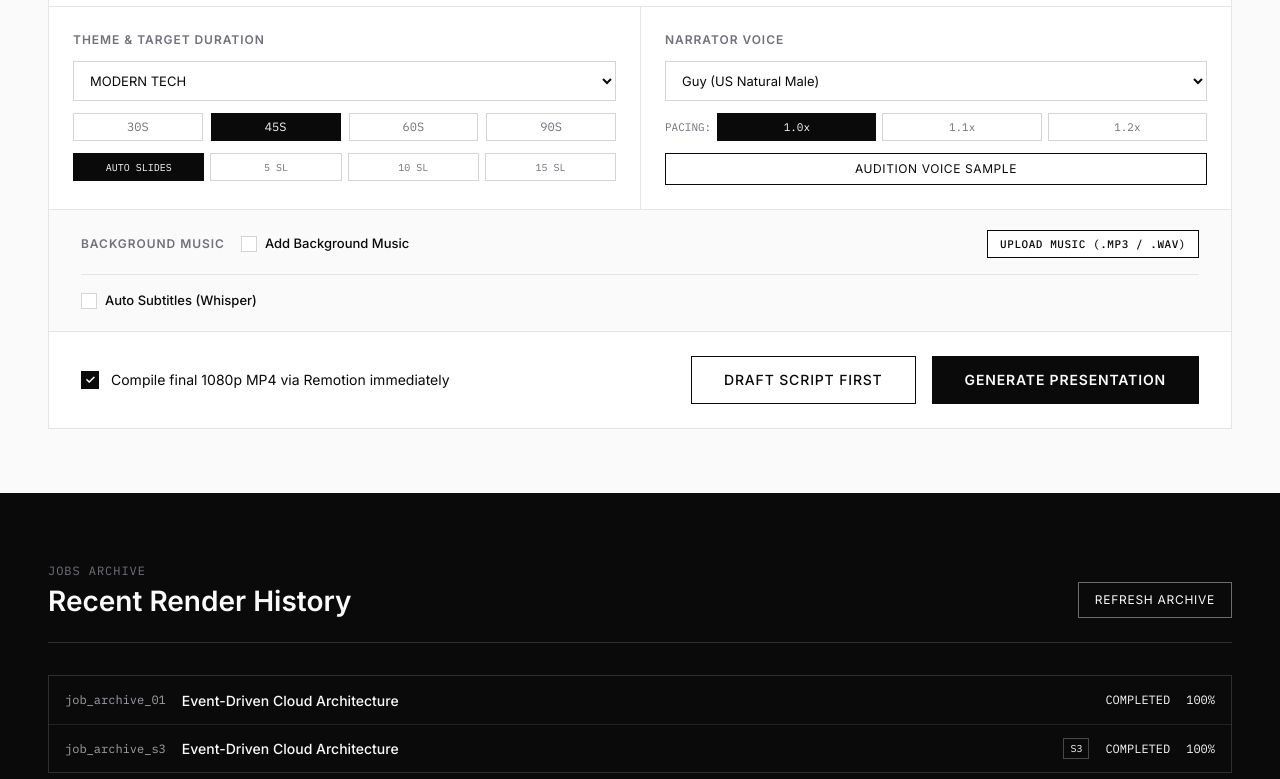
Test: Interactive Web Studio User Flows (jsdom + Testing Library) › shows validation alert on empty prompt, applies quick template, and auditions voice audio
(page scrolled)
Click the button "Generate Presentation".
click(1065, 380)  # box [932,356,1199,404]
(page scrolled)
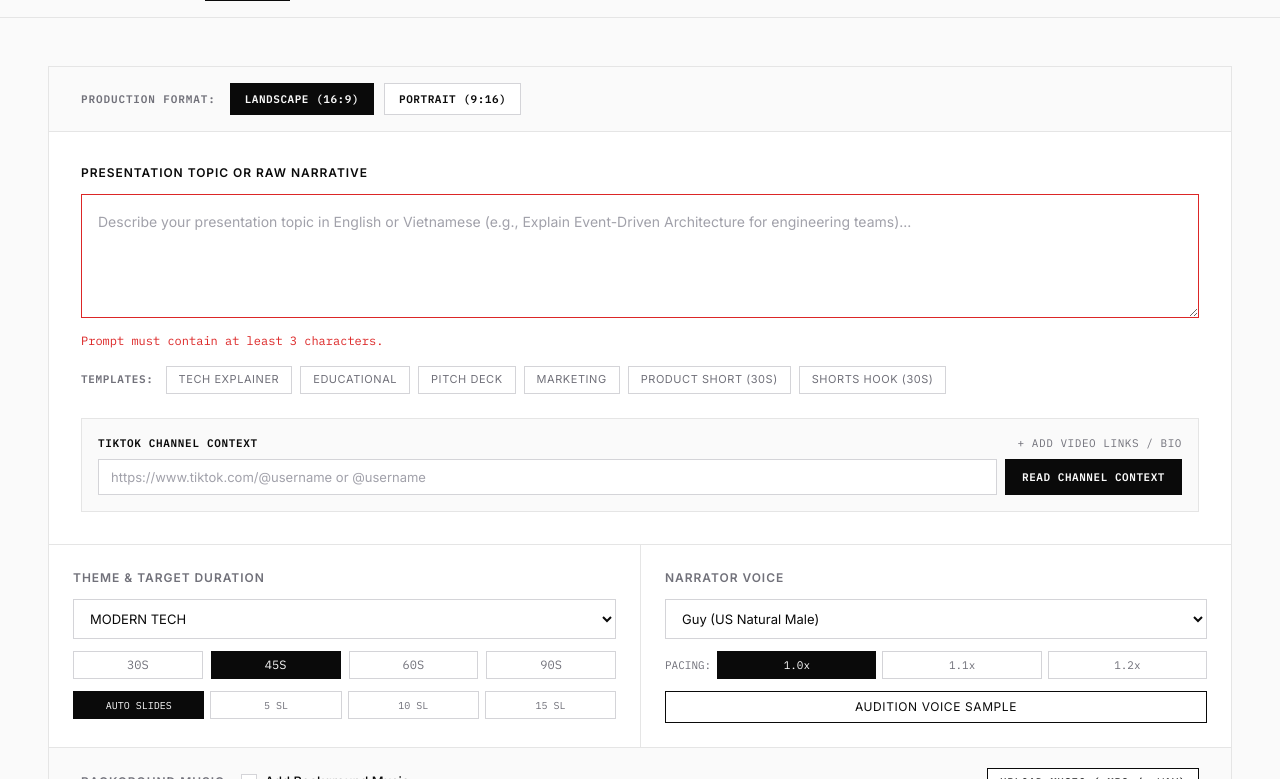
Check: the message reads "Prompt must contain at least 3 characters.", box [81,333,383,348]
Click the button "TECH EXPLAINER".
click(229, 380)  # box [166,366,292,394]
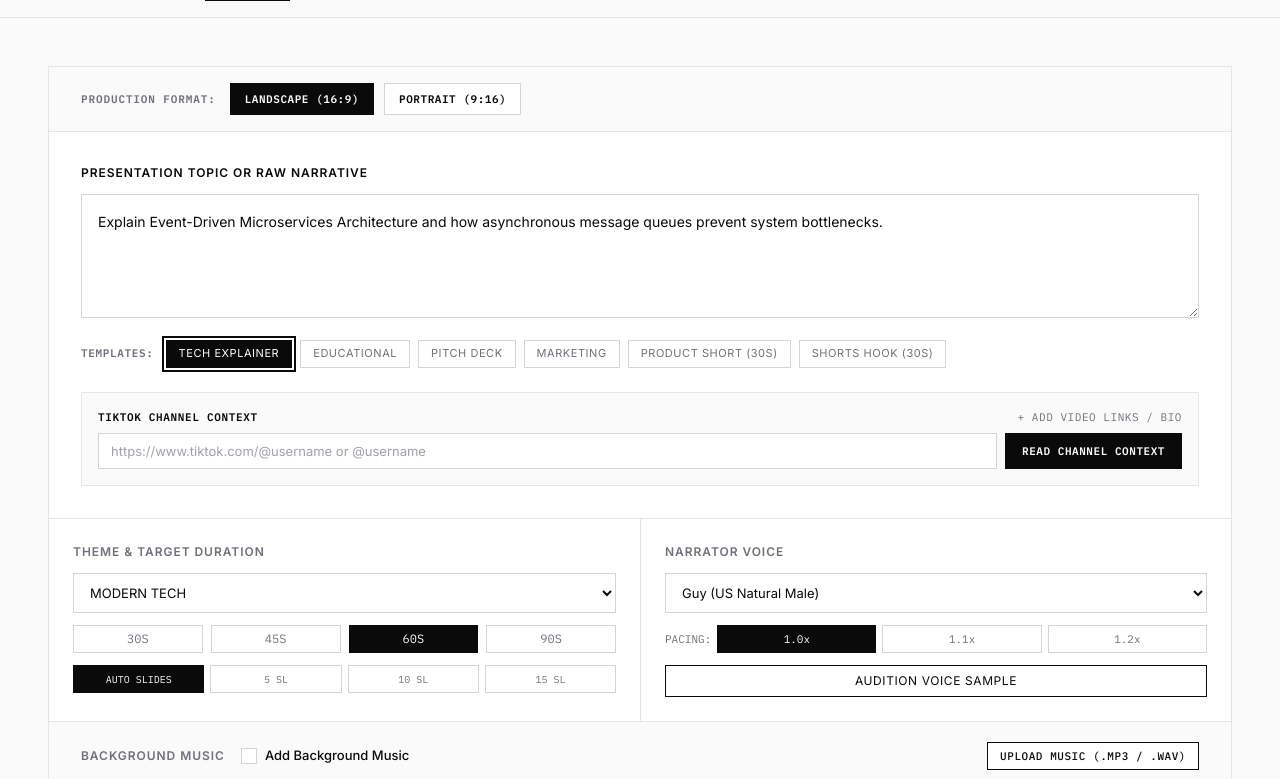
Check: the message "Prompt must contain at least 3 characters." is gone
Audition Voice Sample mounts audio preview player
Click the button "AUDITION VOICE SAMPLE".
click(936, 681)  # box [665,665,1207,697]
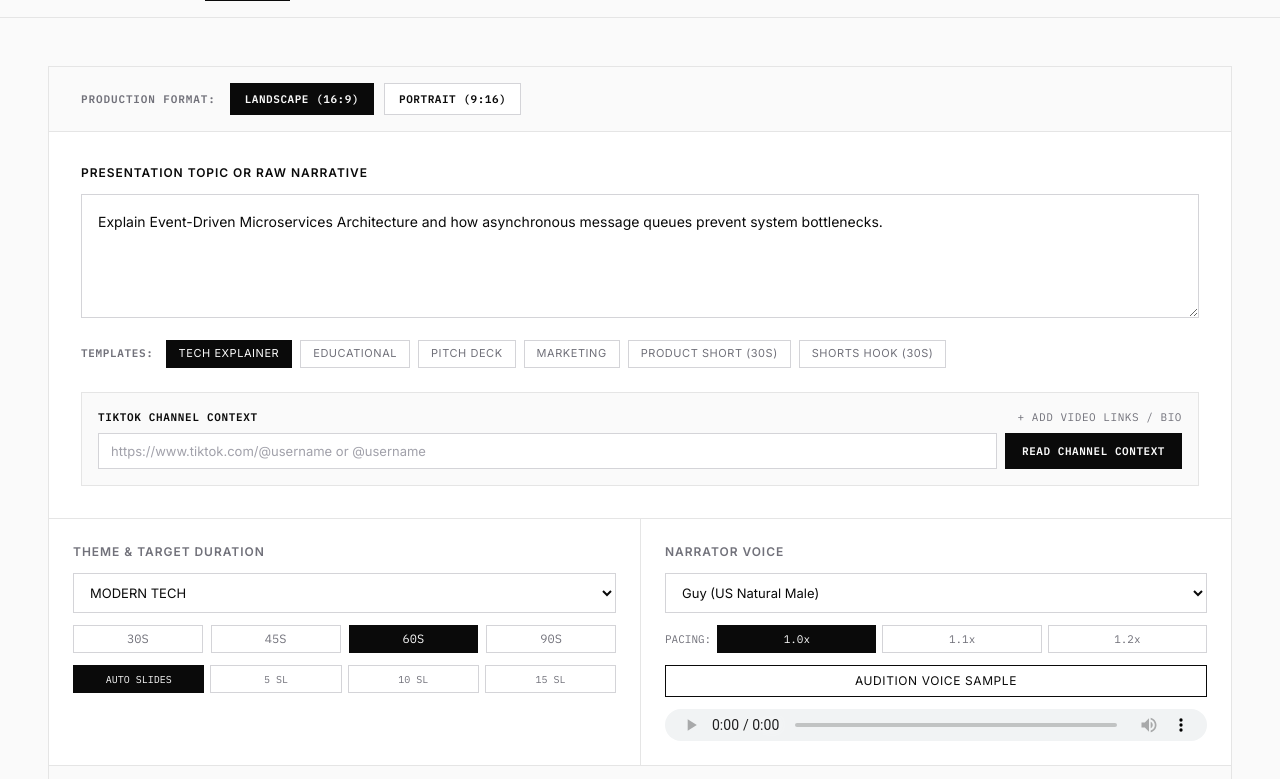
Check: the element with test id "voice-audition-player" is shown, box [665,709,1207,741]
